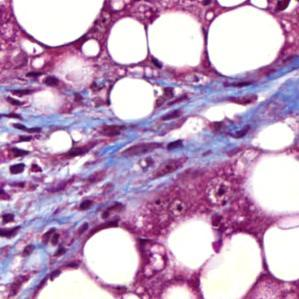steatosis: (110, 78, 158, 120)
